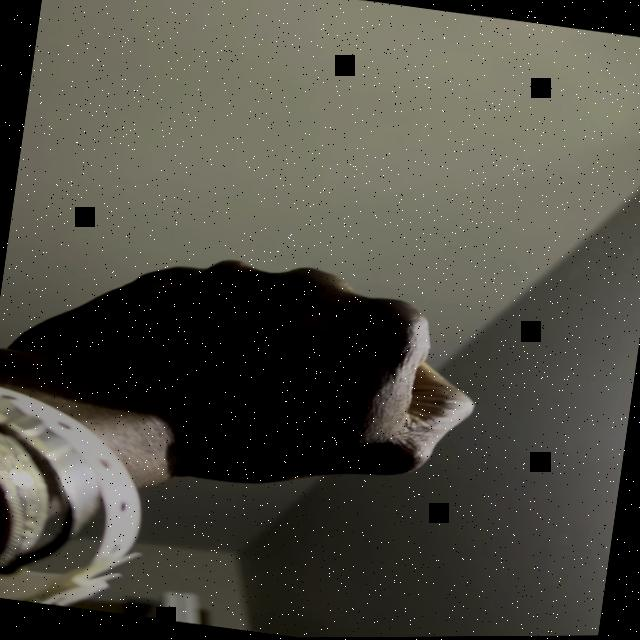Rock: (0, 223, 489, 516)
